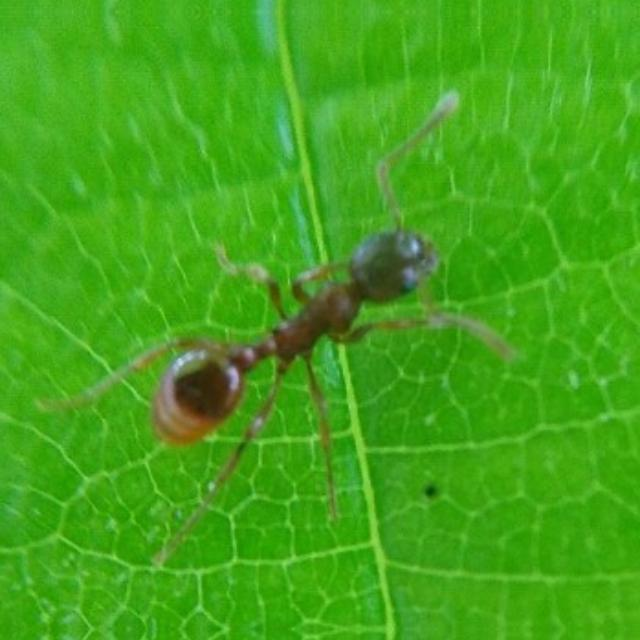Myrmica: (116, 138, 466, 446)
